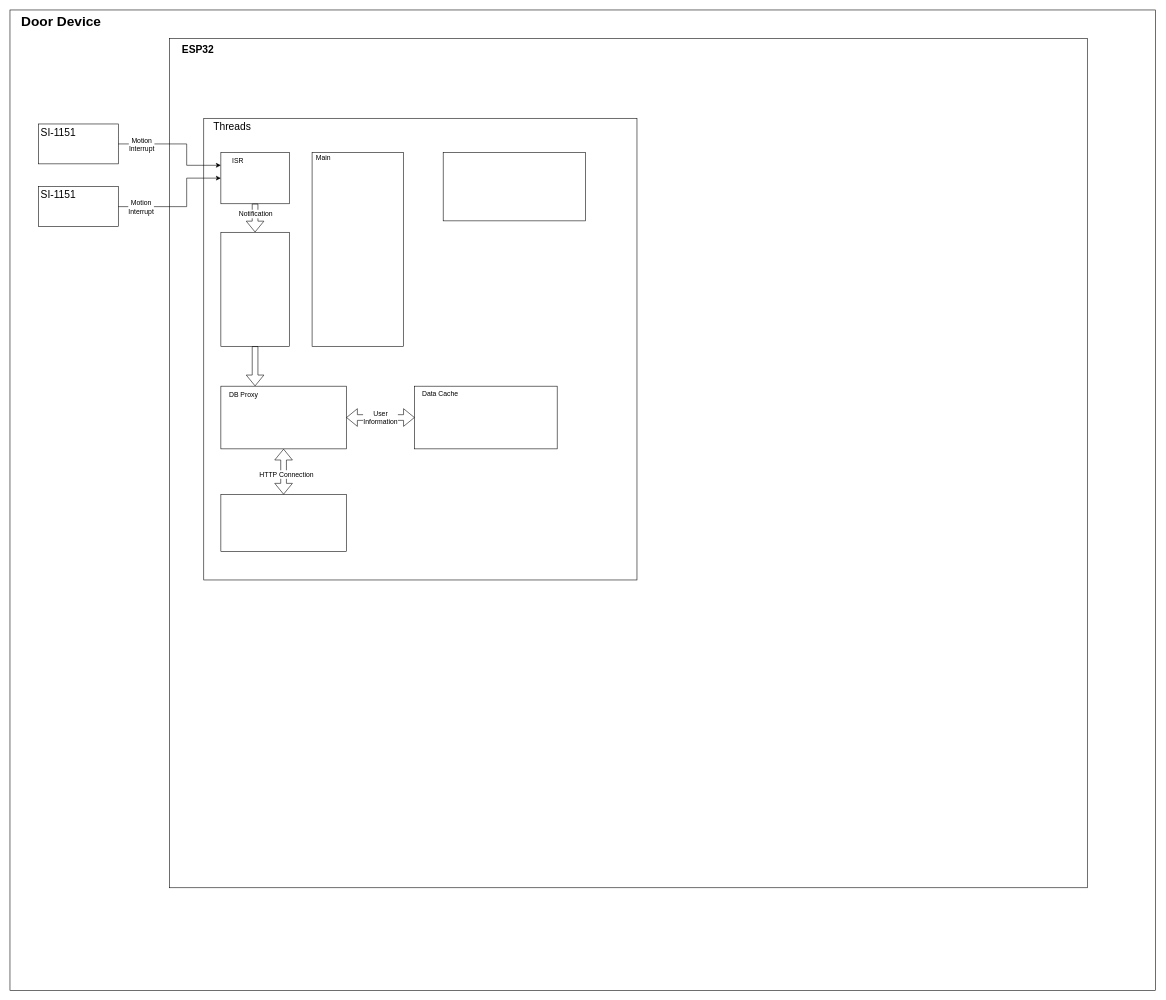
Image size: 1166x1000. Some labels were removed from this diagram. The box of each missing label's shape, as (x1, y1, x2, y2) in pixels:
Bluetooth: (443, 152, 586, 221)
Interrupt Handler: (220, 232, 289, 346)
WiFi: (220, 494, 346, 551)
